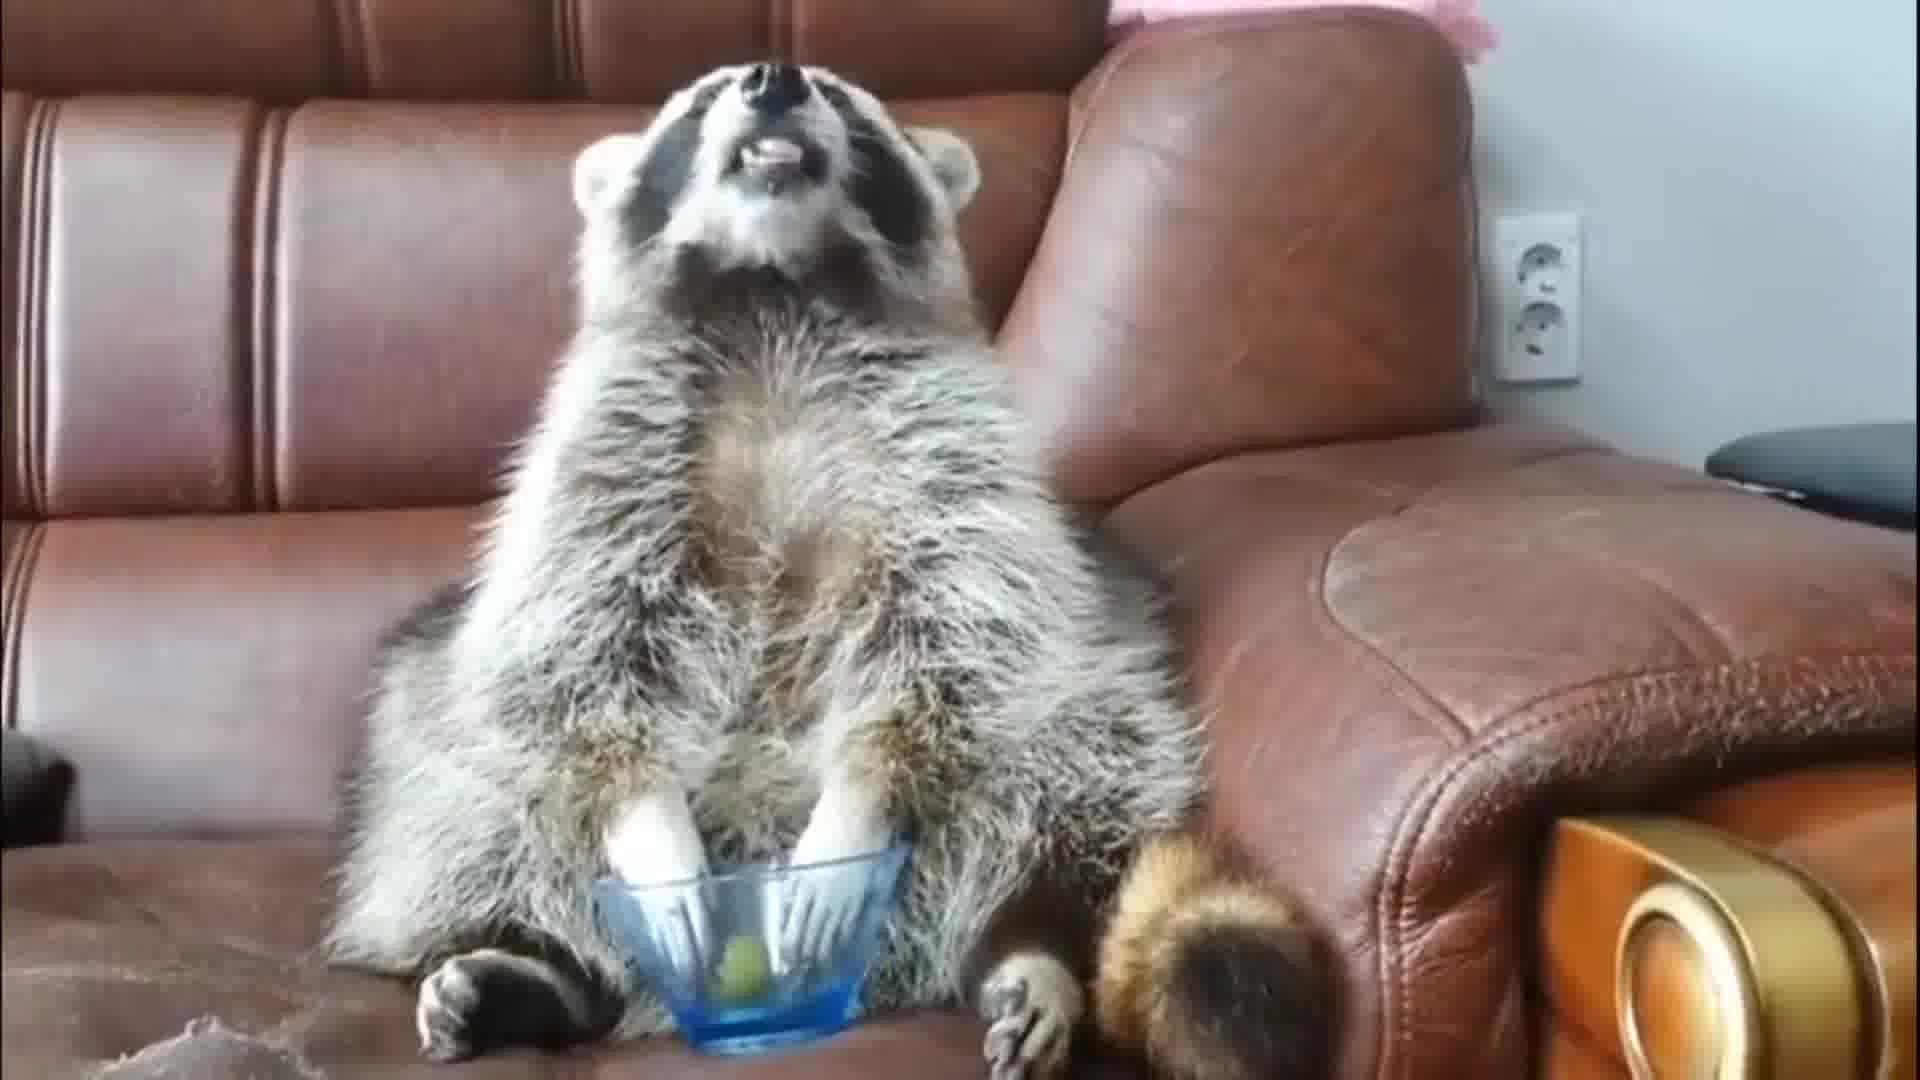raccoon: (319, 40, 1345, 1080)
